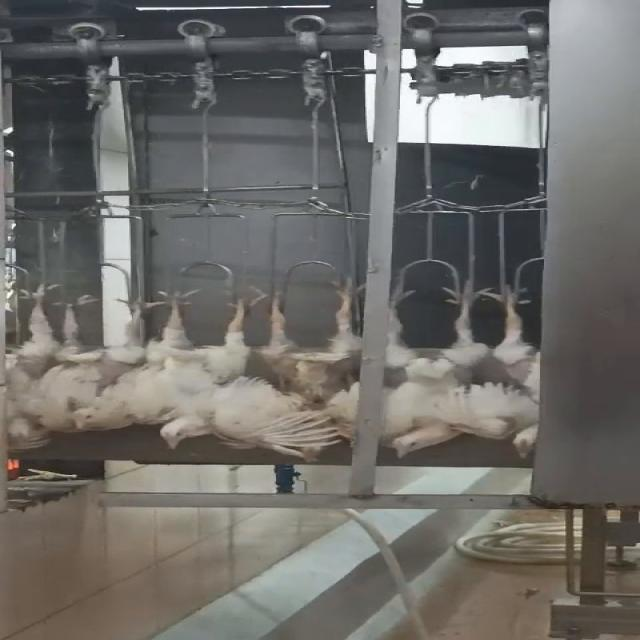chicken: (132, 276, 270, 448), (386, 272, 512, 458), (245, 274, 368, 460), (44, 283, 150, 441), (473, 278, 546, 460), (0, 282, 72, 458)
